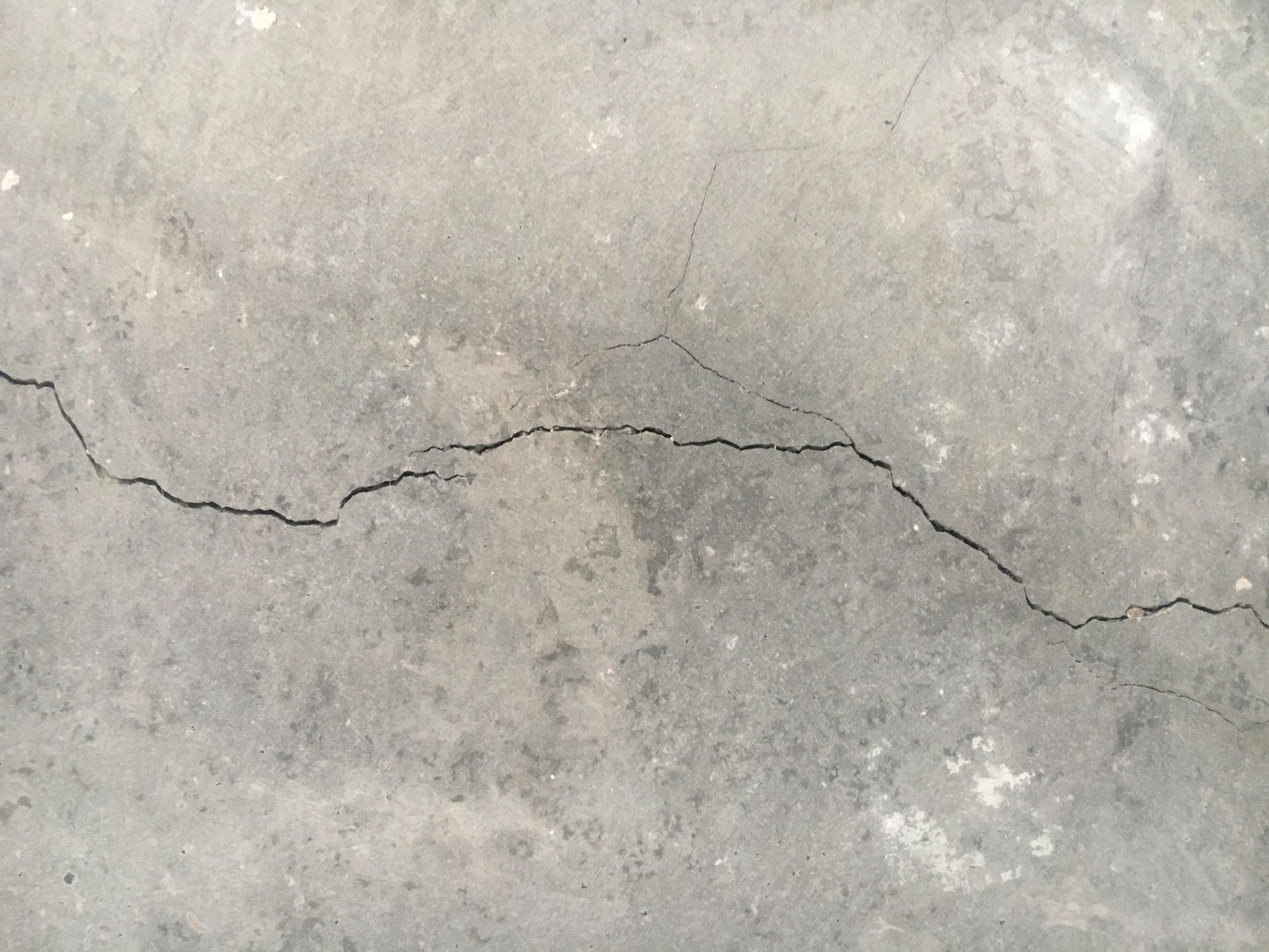Horizontal Settlement Crack: (7, 328, 1269, 641)
